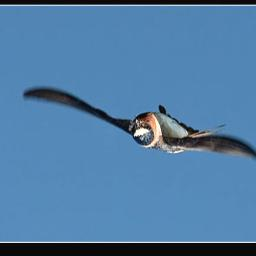Swallow: (21, 89, 256, 170)
